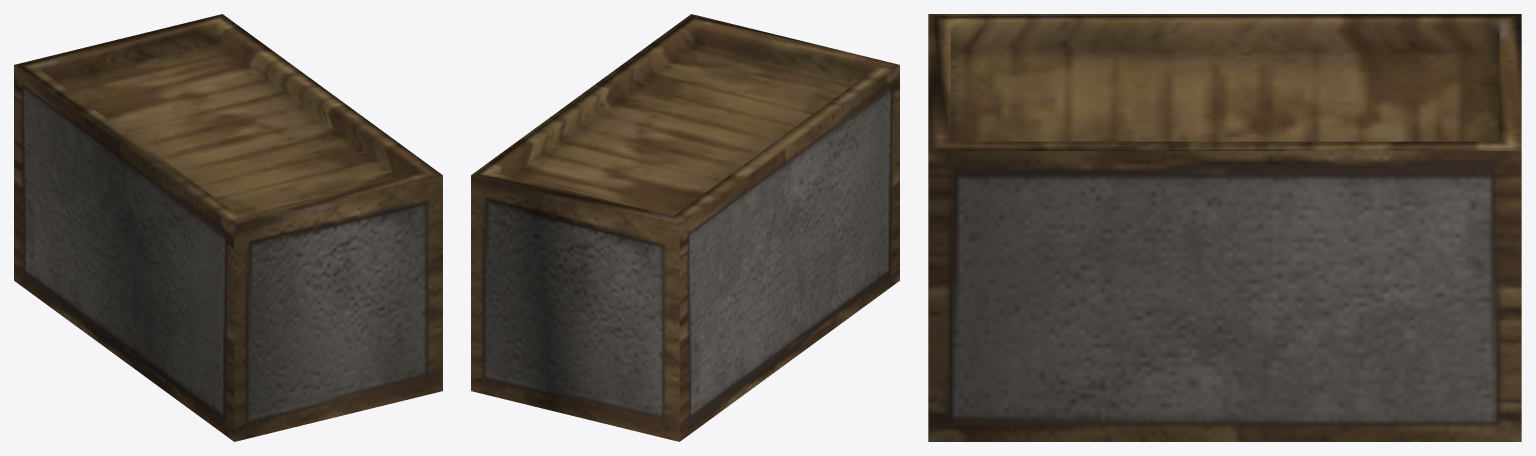
File: HouseLong.fbx
The picture shows the model from 3 angles, left to right: view 1: azimuth 30°, elevation 25°; view 2: azimuth 150°, elevation 25°; view 3: azimuth 270°, elevation 25°; orthographic projection. The views are drawn at different scales.
Parts seen in each view (by area): view 1: HouseLong; view 2: HouseLong; view 3: HouseLong.
Boxes of the visible parts, x1=… form: HouseLong: x1=14, y1=14, x2=442, y2=441; HouseLong: x1=471, y1=14, x2=899, y2=441; HouseLong: x1=928, y1=14, x2=1521, y2=441.
Size of the model in its own units: 658 by 651 by 1204.
